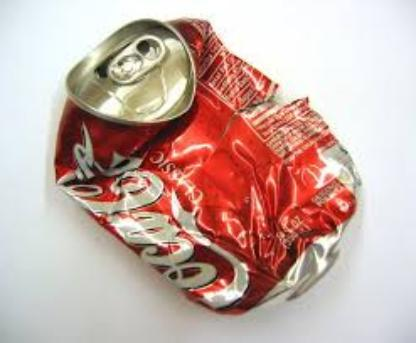Can: (52, 17, 380, 325)
